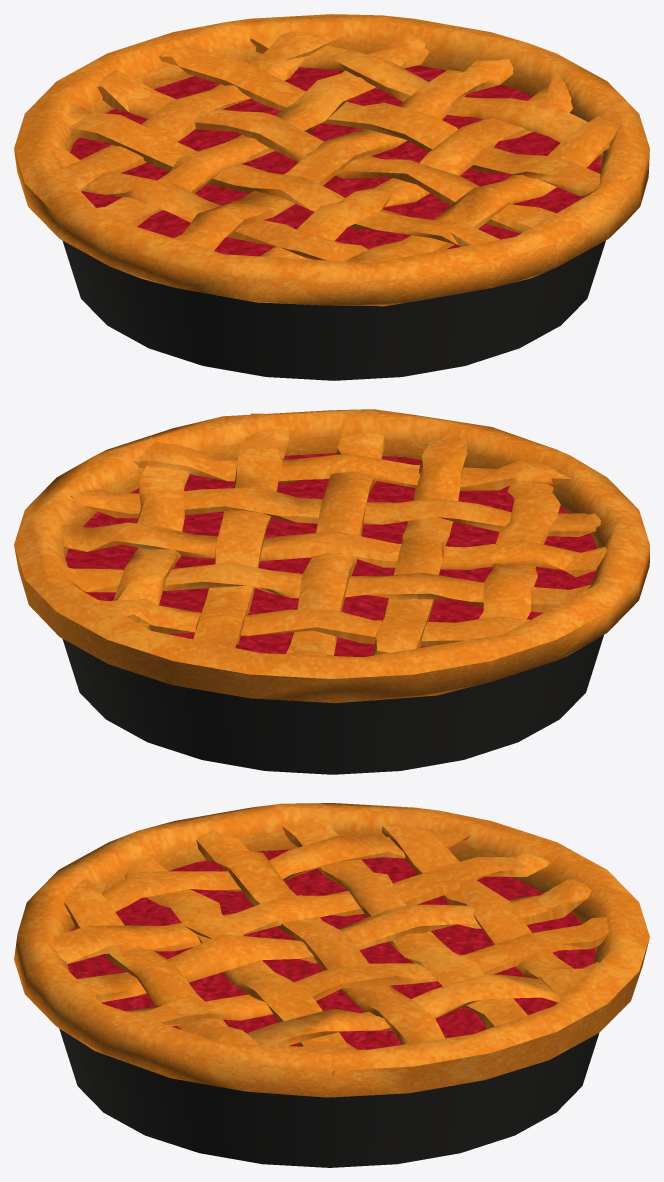
Rendered from Pie.fbx.
3 views of the same model, one above another, from view 1: azimuth 30°, elevation 25°; view 2: azimuth 150°, elevation 25°; view 3: azimuth 270°, elevation 25° (orthographic).
Visible parts, largest first — view 1: Pie_LOD_0; view 2: Pie_LOD_0; view 3: Pie_LOD_0.
Part boxes in pixels (bbox=[...]): Pie_LOD_0: bbox=[14, 14, 649, 380]; Pie_LOD_0: bbox=[14, 409, 649, 774]; Pie_LOD_0: bbox=[14, 803, 649, 1167].
Size of what is drawn, in the model's own units: 31.44 by 7.3 by 31.54.
